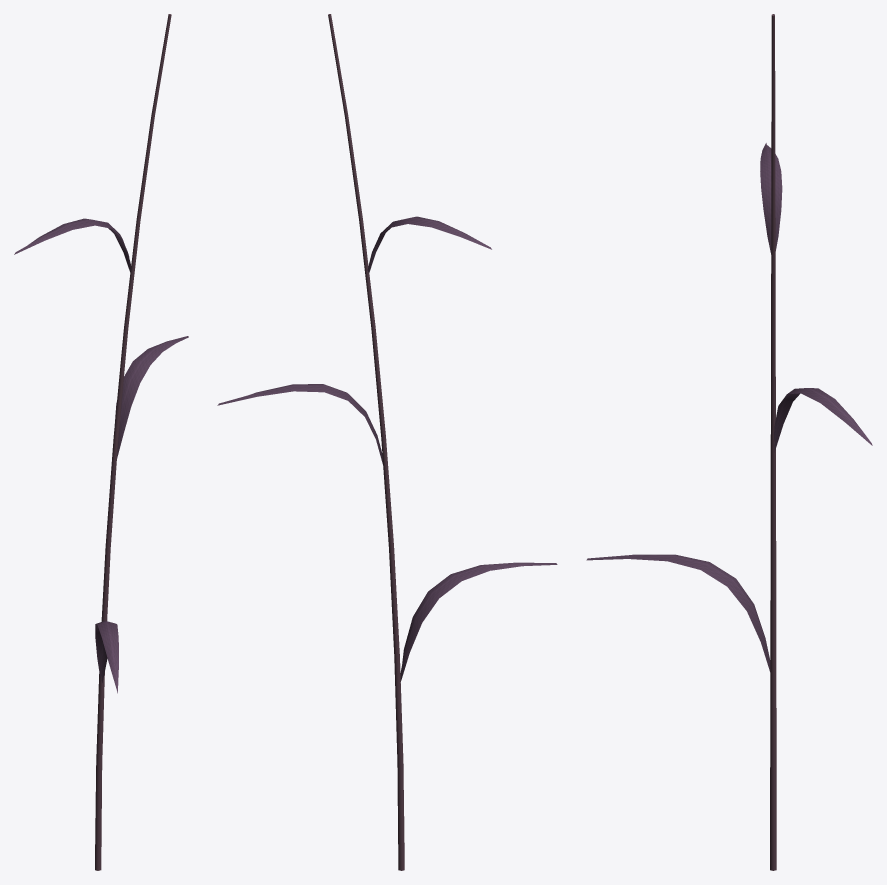
The model's file is single_stem_00.glb.
3 renders of one model, left to right at view 1: azimuth 30°, elevation 25°; view 2: azimuth 150°, elevation 25°; view 3: azimuth 270°, elevation 25°, orthographic. The views are drawn at different scales.
Parts seen in each view (by area): view 1: export; view 2: export; view 3: export.
Boxes of the visible parts, box(x1,y1,x2,y2) form: export: box(14, 14, 188, 870); export: box(217, 14, 557, 870); export: box(586, 14, 872, 870).
Size of the model in its own units: 0.2813 by 1 by 0.2916.
2 materials, 2 textured.
